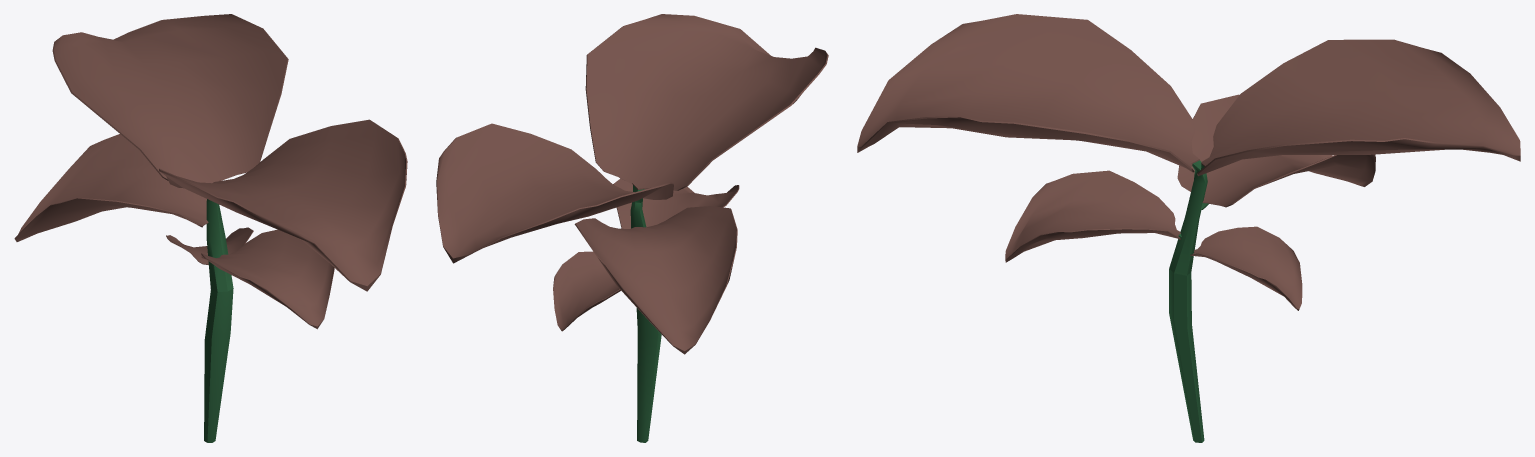
Rendered from BigPlant.fbx.
3 views of the same model, side by side, from view 1: azimuth 30°, elevation 25°; view 2: azimuth 150°, elevation 25°; view 3: azimuth 270°, elevation 25° (orthographic). The views are drawn at different scales.
Visible parts, largest first — view 1: Leaves; view 2: Leaves; view 3: Leaves.
Part boxes in pixels (x1,y1,x2,y2): Leaves: (14, 14, 407, 442); Leaves: (436, 14, 828, 442); Leaves: (857, 14, 1520, 442).
Size of the model in its own units: 10.01 by 12.85 by 20.65.
